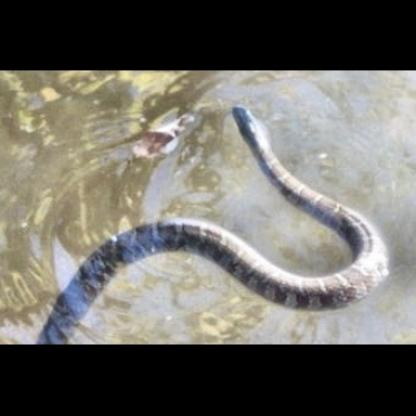Snake: (36, 93, 389, 345)
